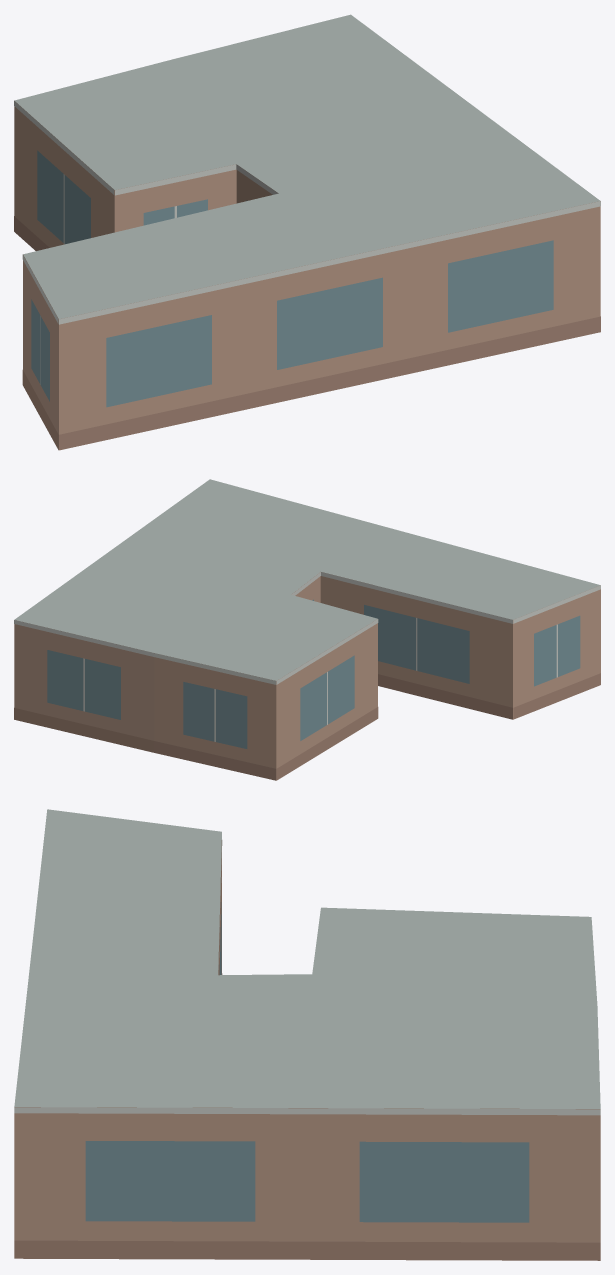
Rendered from survey-upis-32727373.glb.
3 views of the same model, one above another, from view 1: azimuth 30°, elevation 25°; view 2: azimuth 150°, elevation 25°; view 3: azimuth 270°, elevation 25° (orthographic). The views are drawn at different scales.
Parts seen in each view (by area): view 1: survey-upis-32727373.tmp; view 2: survey-upis-32727373.tmp; view 3: survey-upis-32727373.tmp.
Boxes of the visible parts, x1,y1,x2,y2 form: survey-upis-32727373.tmp: [14, 14, 600, 450]; survey-upis-32727373.tmp: [14, 479, 600, 780]; survey-upis-32727373.tmp: [14, 809, 600, 1260].
Size of the model in its own units: 12.95 by 3.05 by 10.7.
